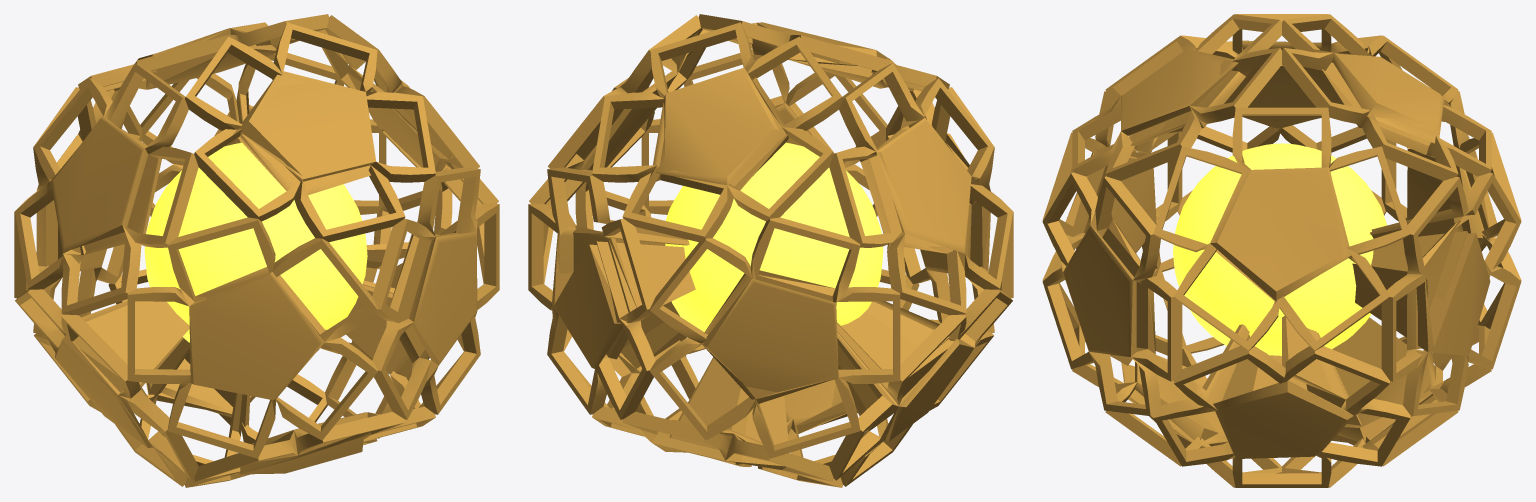
The picture shows the model from 3 angles, left to right: view 1: azimuth 30°, elevation 25°; view 2: azimuth 150°, elevation 25°; view 3: azimuth 270°, elevation 25°; orthographic projection. The views are drawn at different scales.
Parts seen in each view (by area): view 1: Hedra001, Sphere001; view 2: Hedra001, Sphere001; view 3: Hedra001, Sphere001.
Part boxes in pixels (left/top/right/bottom): Hedra001: left=14, top=14, right=499, bottom=487; Sphere001: left=144, top=142, right=367, bottom=342; Hedra001: left=528, top=14, right=1013, bottom=487; Sphere001: left=665, top=142, right=883, bottom=332; Hedra001: left=1042, top=14, right=1521, bottom=487; Sphere001: left=1173, top=143, right=1387, bottom=355.
Bounding box in the file's own units: 49.94 × 49.94 × 49.94.
